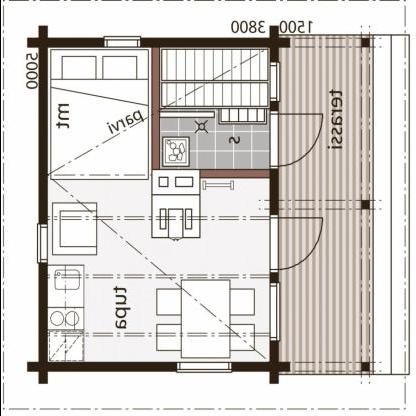door: (265, 214, 327, 274), (268, 109, 324, 168)
window: (174, 356, 232, 378), (33, 217, 51, 274), (265, 281, 281, 343), (102, 30, 142, 54), (265, 60, 280, 106)
